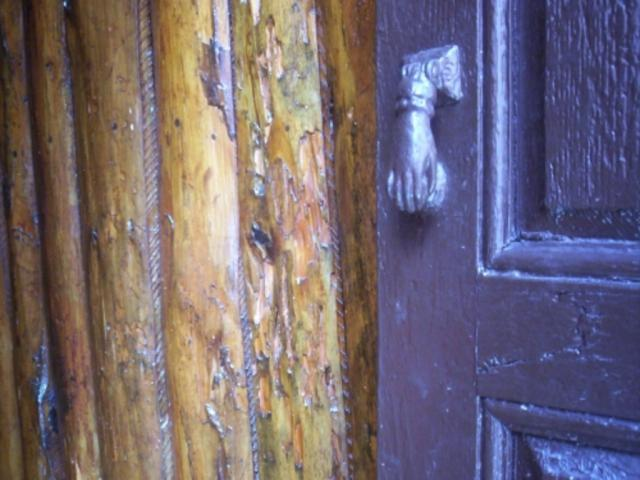Door-handle: (390, 42, 457, 212)
